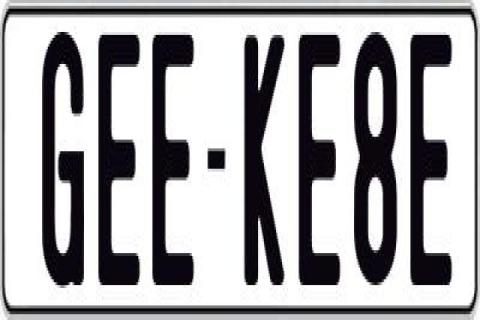0: (351, 26, 398, 282)
E: (296, 29, 342, 294), (98, 32, 144, 291), (150, 26, 194, 294), (408, 29, 452, 285)
G: (39, 27, 86, 297)
K: (245, 32, 285, 296)
